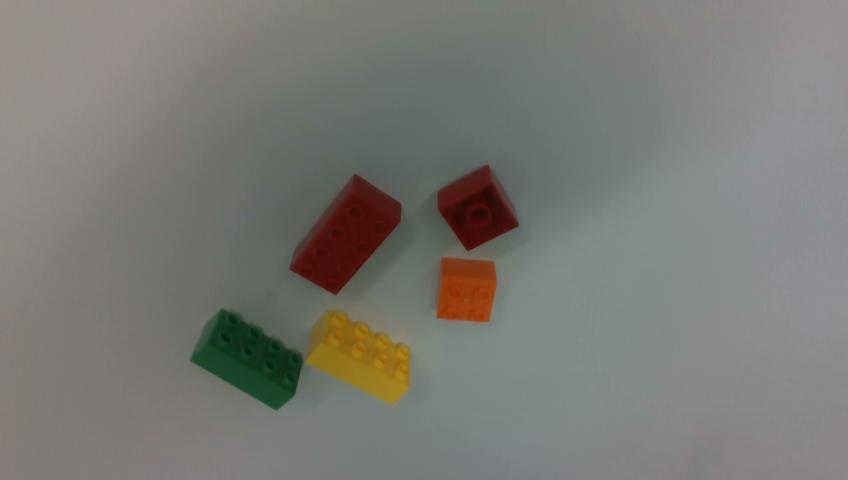2x2_orange: (437, 258, 496, 321)
2x2_red: (437, 166, 518, 250)
4x2_green: (191, 309, 302, 409)
4x2_red: (291, 175, 400, 293)
4x2_yellow: (305, 310, 410, 403)
